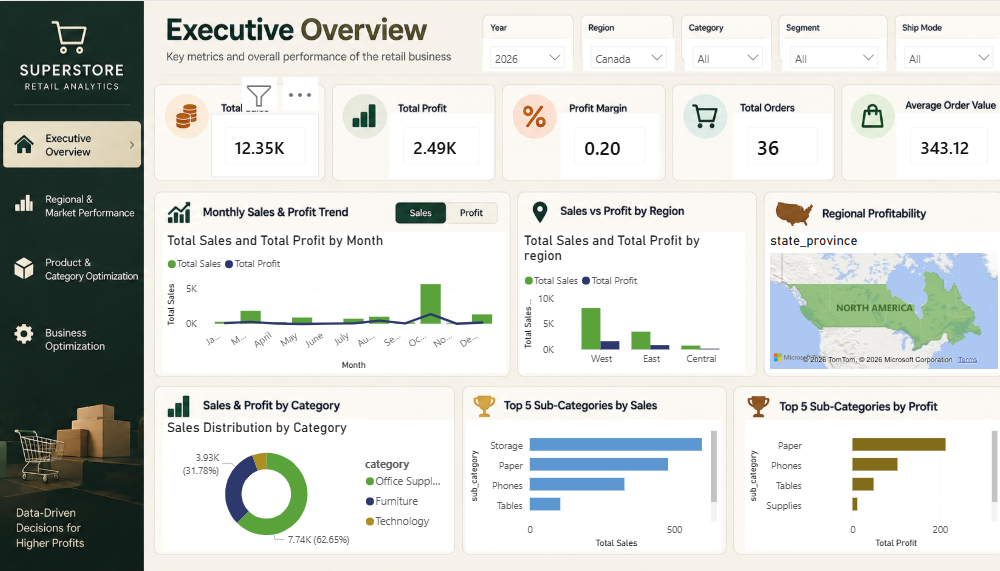

What the dashboard file says about the page in this screenshot:
{"tool":"powerbi","page":{"name":"Page 1","canvas":[1280,720],"ordinal":0},"visuals":[{"type":"cardVisual","fields":{"Data":["superstore_cleaned.Total Sales"]},"box":[268.3,141.7,136.1,81.3],"z":0},{"type":"cardVisual","fields":{"Data":["superstore_cleaned.Total Profit"]},"box":[493.2,141.7,130.4,81.3],"z":1000},{"type":"cardVisual","fields":{"Data":["superstore_cleaned.Total Orders"]},"box":[926,141.7,124.7,81.3],"z":2000},{"type":"cardVisual","fields":{"Data":["superstore_cleaned.Profit Margin"]},"box":[708.7,141.7,124.7,81.3],"z":3000},{"type":"cardVisual","fields":{"Data":["superstore_cleaned.Average Order Value"]},"box":[1132,141.7,132.3,81.3],"z":4000},{"type":"lineClusteredColumnComboChart","fields":{"Category":["superstore_cleaned.order_date.Variation.Date Hierarchy.Month"],"Y":["superstore_cleaned.Total Sales"],"Y2":["superstore_cleaned.Total Profit"]},"box":[207.9,291,432.8,177.6],"z":5000},{"type":"clusteredColumnChart","fields":{"Y":["superstore_cleaned.Total Sales","superstore_cleaned.Total Profit"],"Category":["superstore_cleaned.region"]},"box":[657.6,291,283.5,177.6],"z":6000},{"type":"clusteredBarChart","fields":{"Y":["superstore_cleaned.Total Sales"],"Category":["superstore_cleaned.sub_category"]},"box":[589.6,527.2,321.3,166.3],"z":7000},{"type":"clusteredBarChart","fields":{"Category":["superstore_cleaned.sub_category"],"Y":["superstore_cleaned.Total Profit"]},"box":[941.1,527.2,323.2,166.3],"z":8000},{"type":"donutChart","title":"Sales Distribution by Category","fields":{"Y":["superstore_cleaned.Total Sales"],"Category":["superstore_cleaned.category"]},"box":[207.9,527.2,366.6,166.3],"z":9000},{"type":"slicer","fields":{"Values":["superstore_cleaned.order_date.Variation.Date Hierarchy.Year","superstore_cleaned.order_date.Variation.Date Hierarchy.Month"]},"box":[610.4,47.2,113.4,41.6],"z":10000},{"type":"slicer","fields":{"Values":["superstore_cleaned.country_region"]},"box":[737,47.2,115.3,41.6],"z":11000},{"type":"slicer","fields":{"Values":["superstore_cleaned.category"]},"box":[865.5,47.2,107.7,41.6],"z":12000},{"type":"slicer","fields":{"Values":["superstore_cleaned.segment"]},"box":[988.4,47.2,130.4,41.6],"z":13000},{"type":"slicer","fields":{"Values":["superstore_cleaned.ship_mode"]},"box":[1132,47.2,132.3,41.6],"z":14000},{"type":"filledMap","fields":{"Category":["superstore_cleaned.state_province"]},"box":[967.6,291,296.7,177.6],"z":15000}]}

Visuals, with their boxes on the page's 1280x720 design canvas (x1, y1, x2, y2). These are canvas units, not pixel positions in the 1000x571 screenshot, which may show the page scaled, cropped or inside an application window:
cardVisual - superstore_cleaned.Total Sales: x1=268 y1=142 x2=404 y2=223
cardVisual - superstore_cleaned.Total Profit: x1=493 y1=142 x2=624 y2=223
cardVisual - superstore_cleaned.Total Orders: x1=926 y1=142 x2=1051 y2=223
cardVisual - superstore_cleaned.Profit Margin: x1=709 y1=142 x2=833 y2=223
cardVisual - superstore_cleaned.Average Order Value: x1=1132 y1=142 x2=1264 y2=223
lineClusteredColumnComboChart - superstore_cleaned.order_date.Variation.Date Hierarchy.Month x superstore_cleaned.Total Sales: x1=208 y1=291 x2=641 y2=469
clusteredColumnChart - superstore_cleaned.Total Sales x superstore_cleaned.Total Profit: x1=658 y1=291 x2=941 y2=469
clusteredBarChart - superstore_cleaned.Total Sales x superstore_cleaned.sub_category: x1=590 y1=527 x2=911 y2=694
clusteredBarChart - superstore_cleaned.sub_category x superstore_cleaned.Total Profit: x1=941 y1=527 x2=1264 y2=694
"Sales Distribution by Category" donutChart: x1=208 y1=527 x2=574 y2=694
slicer - superstore_cleaned.order_date.Variation.Date Hierarchy.Year x superstore_cleaned.order_date.Variation.Date Hierarchy.Month: x1=610 y1=47 x2=724 y2=89
slicer - superstore_cleaned.country_region: x1=737 y1=47 x2=852 y2=89
slicer - superstore_cleaned.category: x1=866 y1=47 x2=973 y2=89
slicer - superstore_cleaned.segment: x1=988 y1=47 x2=1119 y2=89
slicer - superstore_cleaned.ship_mode: x1=1132 y1=47 x2=1264 y2=89
filledMap - superstore_cleaned.state_province: x1=968 y1=291 x2=1264 y2=469
